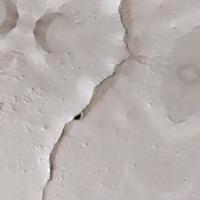crack: (24, 1, 164, 199)
